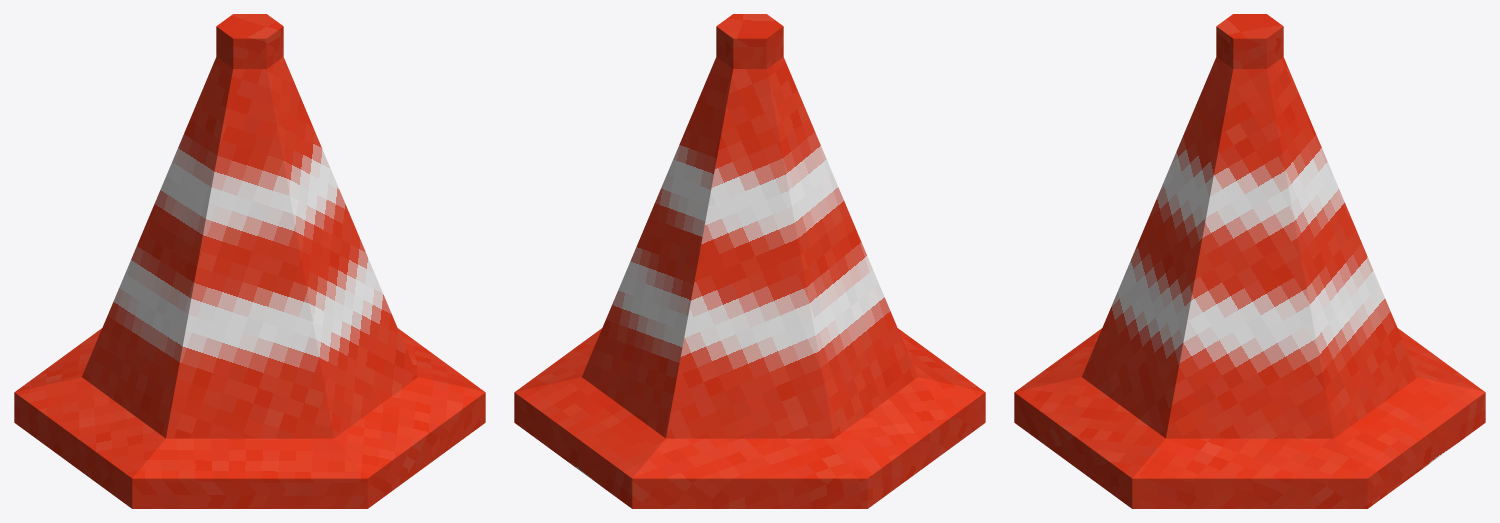
The picture shows the model from 3 angles, left to right: view 1: azimuth 30°, elevation 25°; view 2: azimuth 150°, elevation 25°; view 3: azimuth 270°, elevation 25°; orthographic projection.
Visible parts, largest first — view 1: конус; view 2: конус; view 3: конус.
Part boxes in pixels (x1,y1,x2,y2): конус: (14,14,485,508); конус: (514,14,985,508); конус: (1014,14,1485,508).
Size of the model in its own units: 12.12 by 13 by 14.
